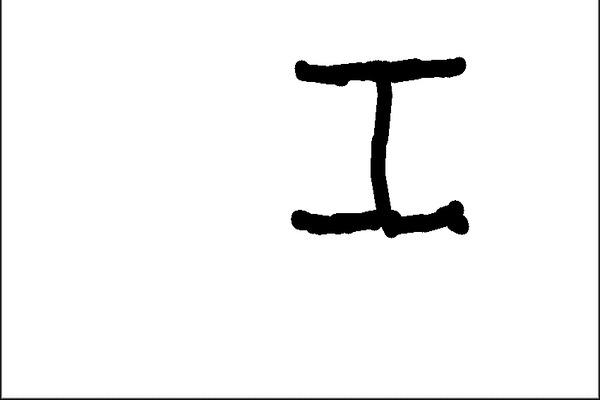i: (284, 53, 482, 241)
